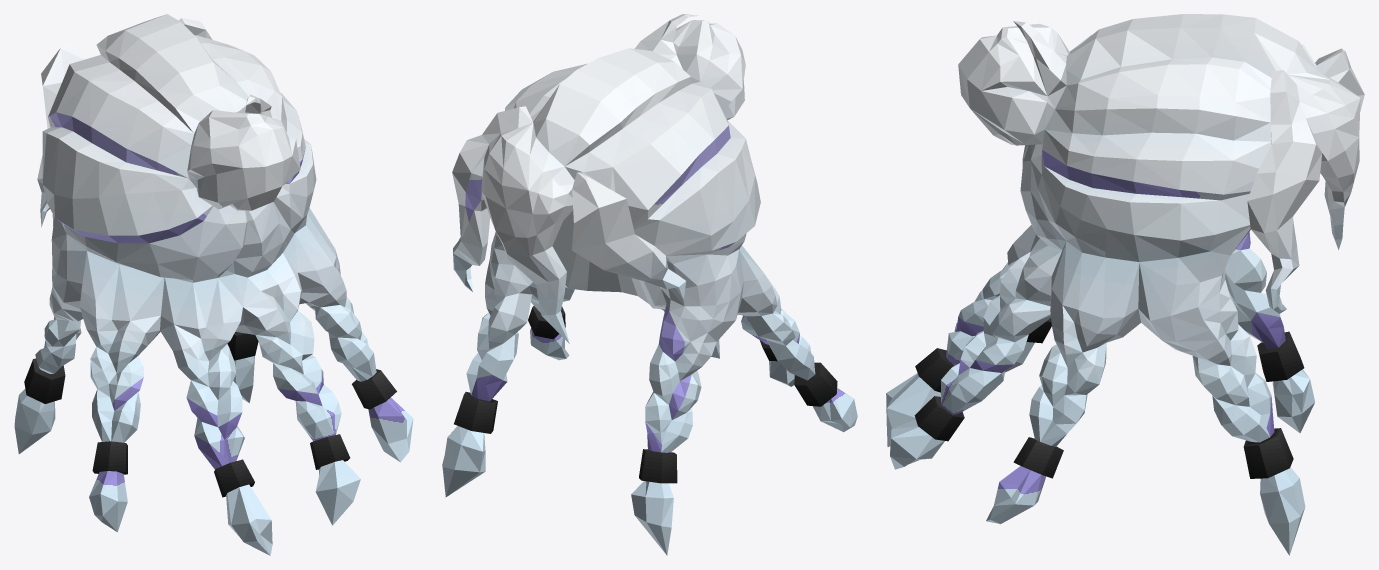
File: CharSkyKid_Hair_PurpleBraids.glb
3 views of the same model, side by side, from view 1: azimuth 30°, elevation 25°; view 2: azimuth 150°, elevation 25°; view 3: azimuth 270°, elevation 25° (orthographic). The views are drawn at different scales.
Parts seen in each view (by area): view 1: CharSkyKid_Hair_PurpleBraids; view 2: CharSkyKid_Hair_PurpleBraids; view 3: CharSkyKid_Hair_PurpleBraids.
Part boxes in pixels (x1,y1,x2,y2): CharSkyKid_Hair_PurpleBraids: (14,14,413,555); CharSkyKid_Hair_PurpleBraids: (442,14,857,555); CharSkyKid_Hair_PurpleBraids: (886,14,1364,555).
Size of the model in its own units: 3.68 by 4.72 by 4.33.
1 material, 1 textured.
